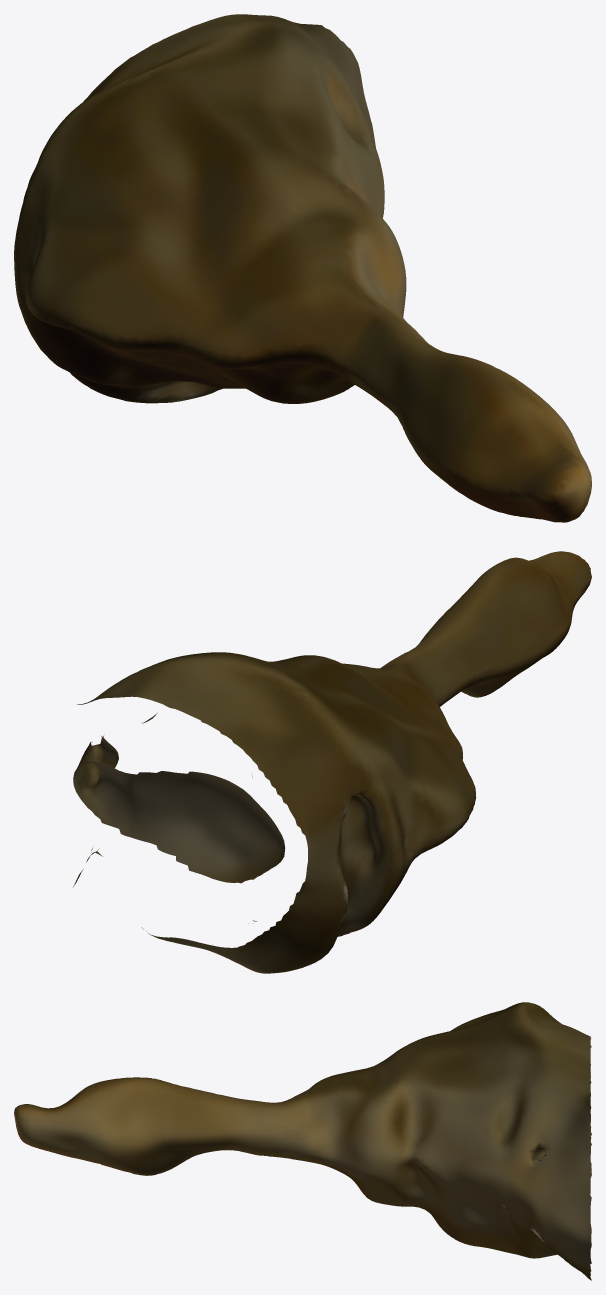
The model's file is bell.glb.
3 renders of one model, top to bottom at view 1: azimuth 30°, elevation 25°; view 2: azimuth 150°, elevation 25°; view 3: azimuth 270°, elevation 25°, orthographic. The views are drawn at different scales.
Bounding box in the file's own units: 0.5863 × 0.4462 × 0.9993.
